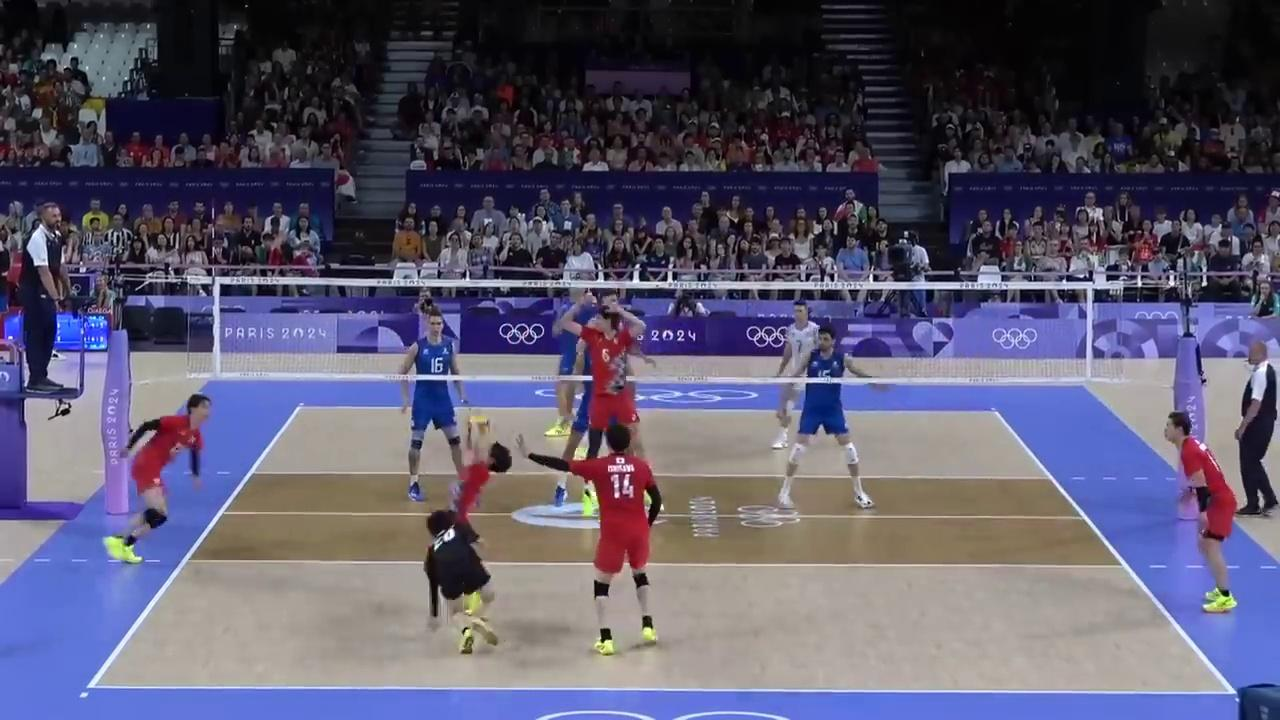ball: (464, 413, 492, 431)
